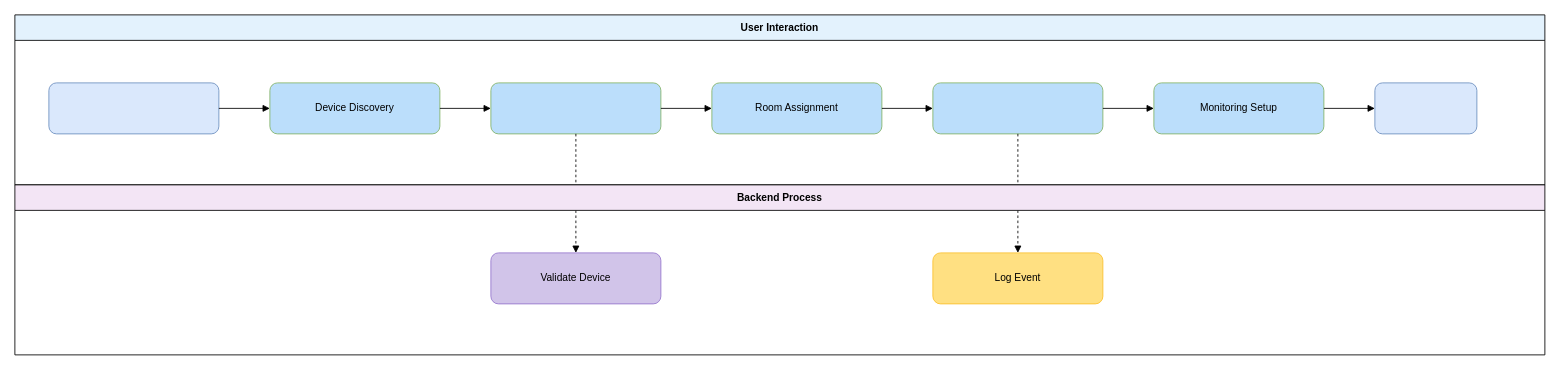
Image size: 1560x370. Some labels were removed from this diagram. The shapes that lost their labels are listed below. From the top down, each one's centre as x and y in pixels, then its label:
At (133,108): "Start Device Onboarding".
At (575,108): "Device Registration".
At (1017,108): "Device Grouping".
At (1425,108): "End".
